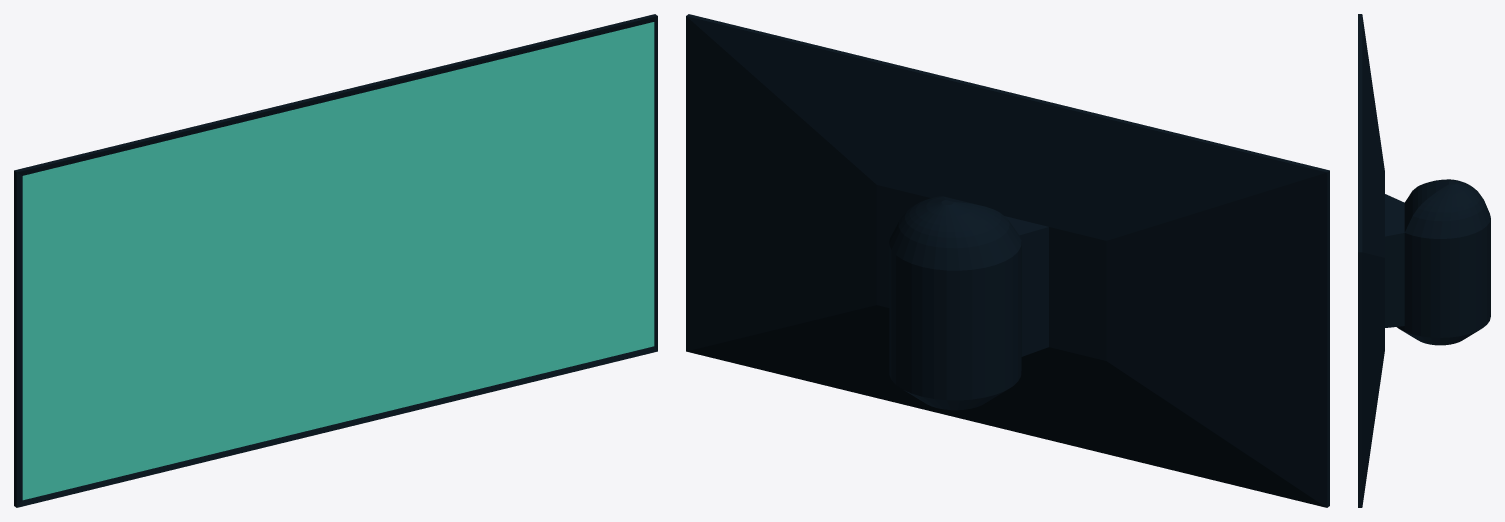
3 renders of one model, left to right at view 1: azimuth 30°, elevation 25°; view 2: azimuth 150°, elevation 25°; view 3: azimuth 270°, elevation 25°, orthographic. The views are drawn at different scales.
Visible parts, largest first — view 1: Screen, TV_Body; view 2: TV_Body; view 3: TV_Body.
Boxes of the visible parts, x1=… form: Screen: x1=22, y1=22, x2=654, y2=500; TV_Body: x1=14, y1=14, x2=657, y2=507; TV_Body: x1=686, y1=14, x2=1329, y2=507; TV_Body: x1=1358, y1=14, x2=1490, y2=507.
Size of the model in its own units: 1117 by 558 by 263.
